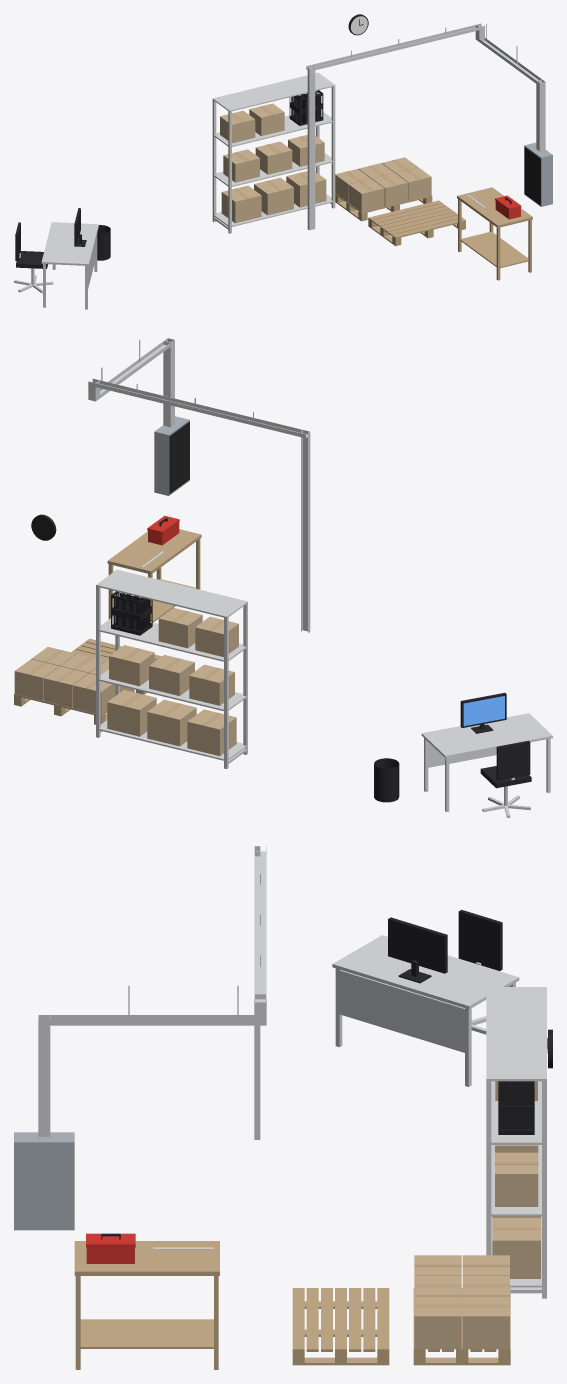
Rendered from room_props.fbx.
3 views of the same model, one above another, from view 1: azimuth 30°, elevation 25°; view 2: azimuth 150°, elevation 25°; view 3: azimuth 270°, elevation 25° (orthographic). The views are drawn at different scales.
Visible parts, largest first — view 1: storage_shelf, cable_tray, workbench, mes_desk, pallet_empty, electrical_panel, carton_box_01, carton_box_02, karton_pack_01, carton_box_05, mes_chair, carton_box_04 (+12 smaller); view 2: storage_shelf, cable_tray, mes_desk, workbench, electrical_panel, mes_chair, carton_box_01, carton_box_02, carton_box_03, carton_box_05, carton_box_06, carton_box_04 (+11 smaller); view 3: mes_desk, storage_shelf, workbench, cable_tray, pallet_empty, electrical_panel, mes_monitor, carton_box_03, karton_pack_05, karton_pack_06, mes_chair, carton_box_06 (+8 smaller).
Boxes of the visible parts, box(x1,y1,x2,y2) form: storage_shelf: box(212, 72, 335, 233); cable_tray: box(306, 23, 545, 230); workbench: box(457, 187, 532, 280); mes_desk: box(41, 222, 98, 309); pallet_empty: box(368, 200, 465, 246); electrical_panel: box(524, 142, 552, 206); carton_box_01: box(221, 185, 261, 223); carton_box_02: box(254, 177, 293, 215); karton_pack_01: box(348, 178, 384, 212); carton_box_05: box(255, 141, 292, 174); mes_chair: box(14, 222, 53, 293); carton_box_04: box(223, 149, 259, 182); storage_shelf: box(96, 569, 247, 768); cable_tray: box(88, 338, 310, 632); mes_desk: box(421, 713, 552, 811); workbench: box(107, 529, 201, 622); electrical_panel: box(154, 416, 189, 495); mes_chair: box(480, 740, 531, 817); carton_box_01: box(187, 709, 236, 756); carton_box_02: box(147, 699, 196, 746); carton_box_03: box(107, 690, 156, 736); carton_box_05: box(149, 655, 194, 695); carton_box_06: box(109, 645, 154, 686); carton_box_04: box(189, 664, 234, 705); mes_desk: box(332, 935, 519, 1086); storage_shelf: box(486, 987, 546, 1298); workbench: box(74, 1241, 219, 1369); cable_tray: box(38, 846, 266, 1141); pallet_empty: box(292, 1288, 389, 1365); electrical_panel: box(14, 1132, 74, 1230); mes_monitor: box(388, 917, 447, 983); carton_box_03: box(492, 1217, 540, 1278); karton_pack_05: box(414, 1296, 461, 1349); karton_pack_06: box(462, 1296, 509, 1349); mes_chair: box(458, 909, 502, 1034); carton_box_06: box(494, 1152, 538, 1206).
Size of the model in its own units: 7.02 by 3.5 by 4.45.
